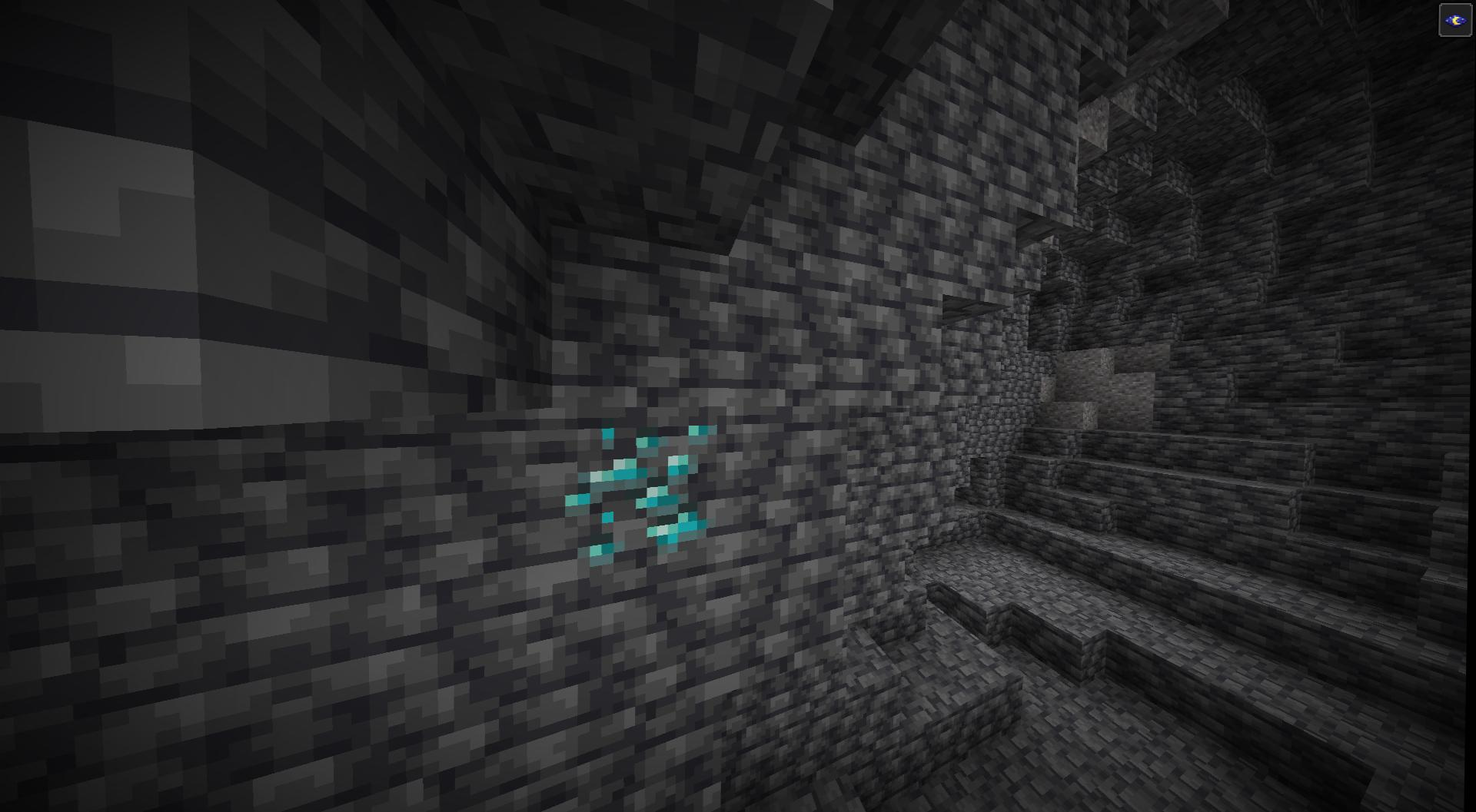diamond ore: (560, 419, 719, 562)
